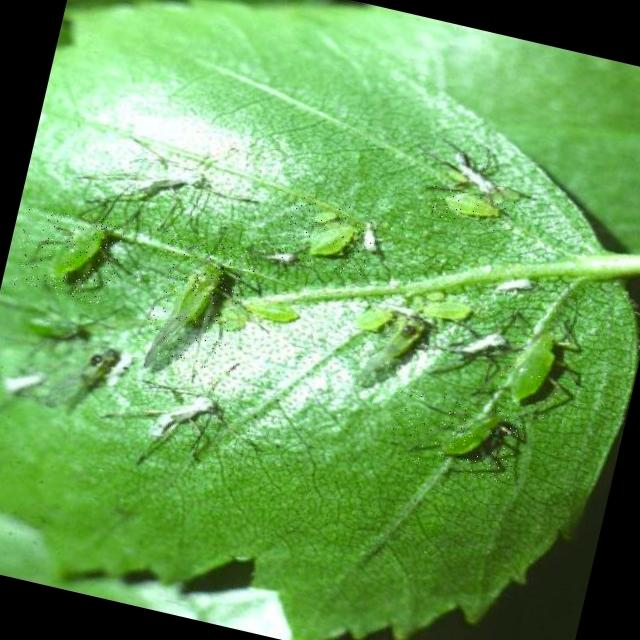aphid: (338, 274, 476, 406), (136, 230, 260, 374), (91, 372, 231, 484), (383, 386, 522, 484), (489, 308, 596, 430), (9, 203, 124, 305), (186, 264, 308, 356), (276, 192, 378, 276), (425, 182, 518, 235)
